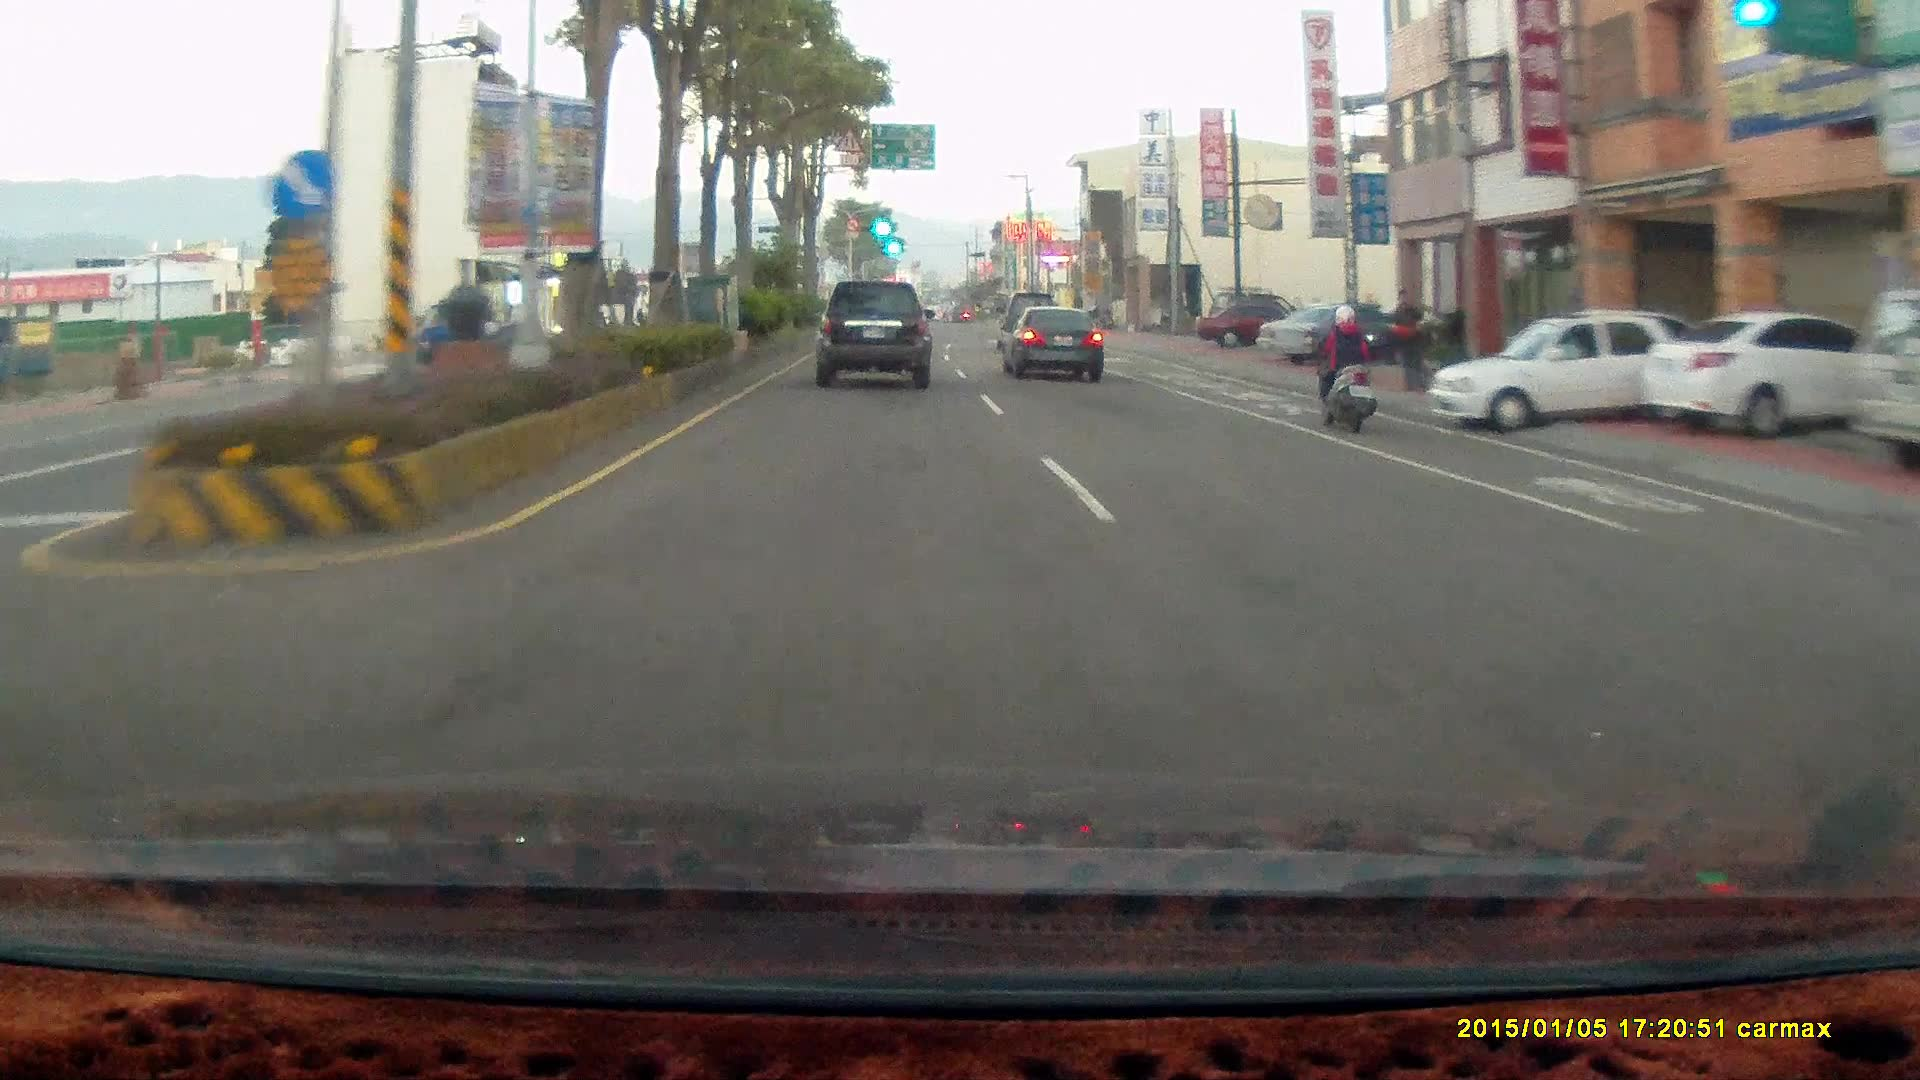pedestrian: (1384, 282, 1429, 389)
rider: (1303, 292, 1391, 440), (1310, 300, 1376, 430)
vehicle: (1640, 309, 1920, 439), (1429, 308, 1731, 426), (1429, 313, 1696, 431), (1640, 312, 1866, 439), (810, 276, 940, 392), (814, 281, 936, 391), (1845, 285, 1919, 466), (1257, 295, 1413, 361), (1257, 299, 1413, 364), (998, 304, 1102, 383), (1005, 306, 1106, 383), (1196, 302, 1318, 348)
